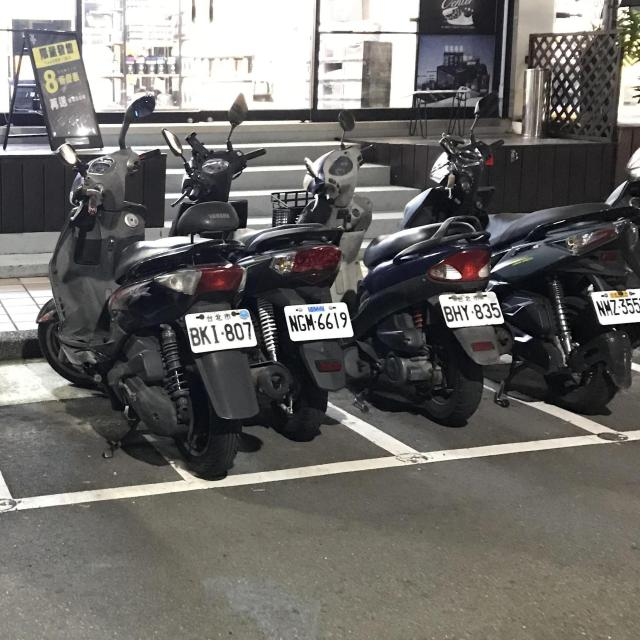W: (182, 306, 260, 354), (281, 297, 355, 343), (434, 288, 506, 330), (588, 284, 640, 327)
